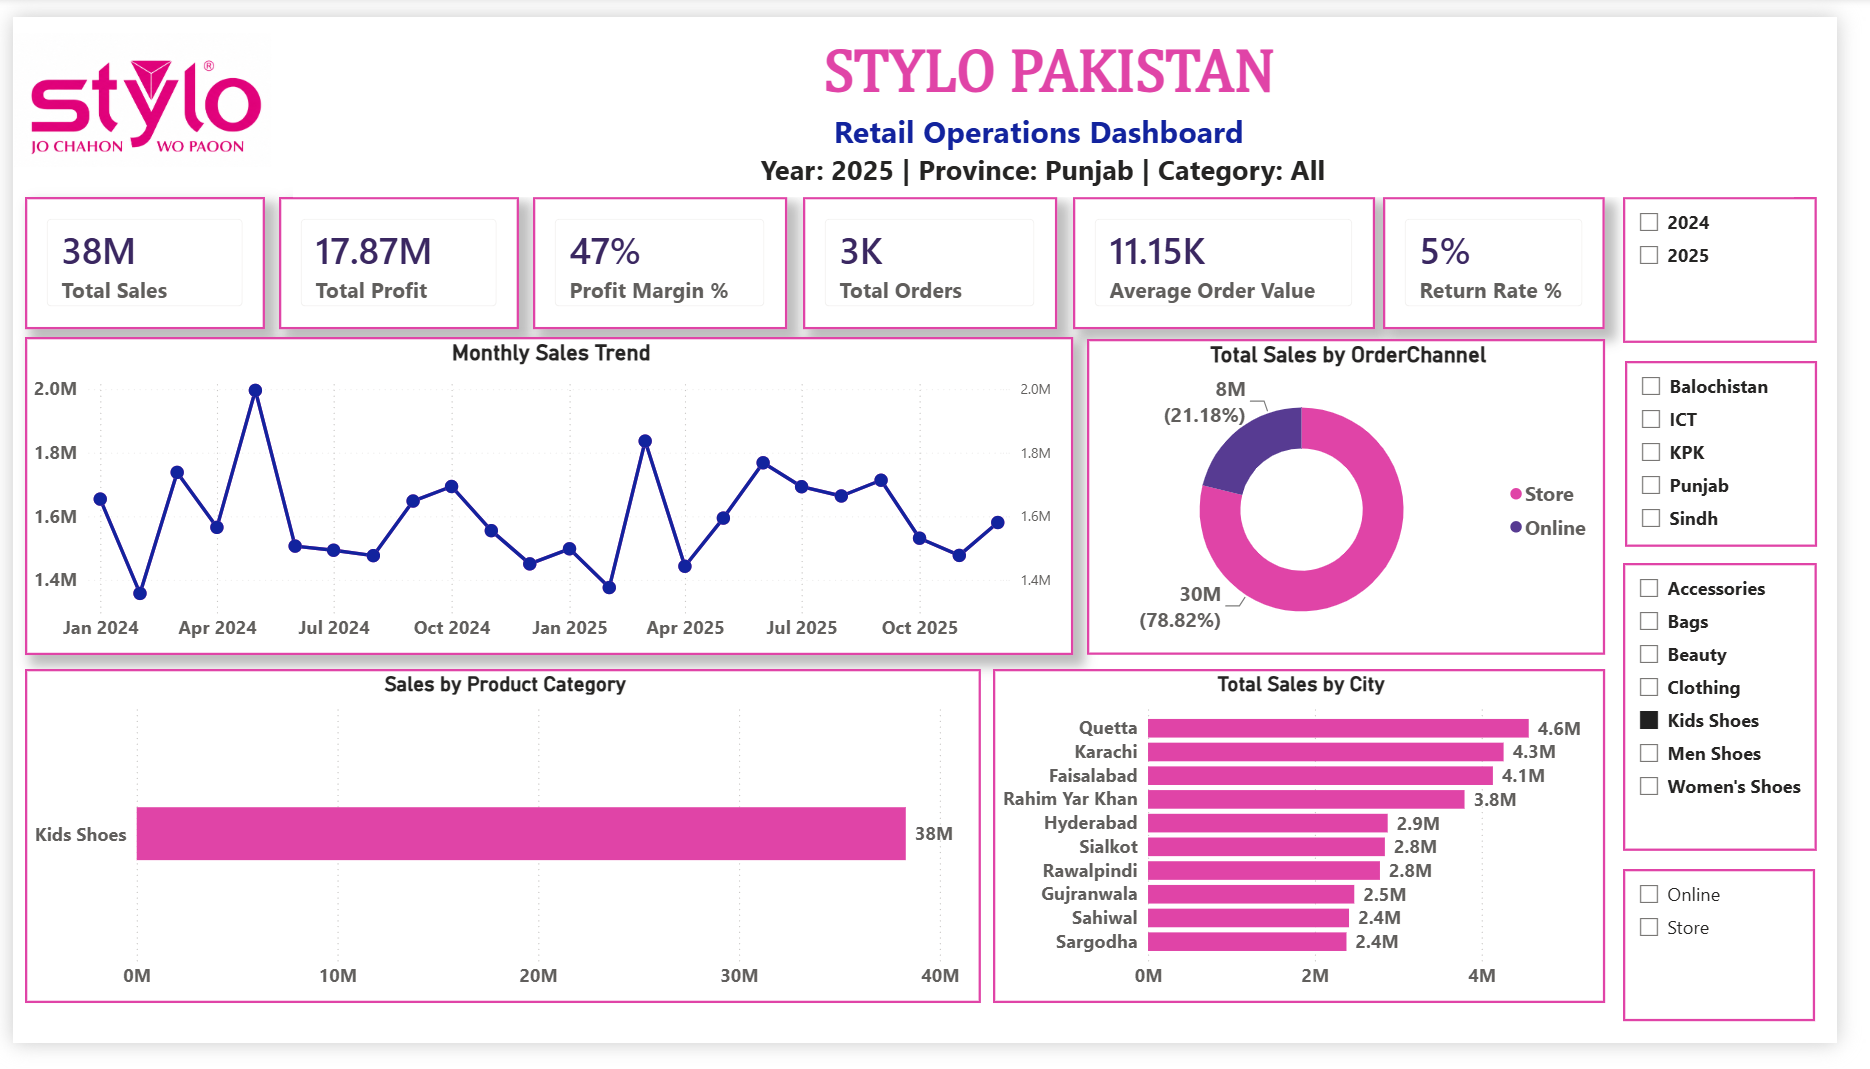

This screenshot's page, from the dashboard's own definition file:
{"tool":"powerbi","page":{"name":"Executive Overview","canvas":[1620,900],"ordinal":0},"visuals":[{"type":"cardVisual","fields":{"Data":["All Measures.Total Sales"]},"box":[28.1,157.9,210.5,115.8],"z":0},{"type":"cardVisual","fields":{"Data":["All Measures.Total Profit"]},"box":[250.9,157.9,210.5,115.8],"z":1000},{"type":"cardVisual","fields":{"Data":["All Measures.Profit Margin %"]},"box":[473.7,157.9,222.8,115.8],"z":2000},{"type":"cardVisual","fields":{"Data":["All Measures.Total Orders"]},"box":[710.5,157.9,222.8,115.8],"z":3000},{"type":"cardVisual","fields":{"Data":["All Measures.Average Order Value"]},"box":[947.4,157.9,264.9,115.8],"z":4000},{"type":"cardVisual","fields":{"Data":["All Measures.Return Rate %"]},"box":[1219.3,157.9,194.7,115.8],"z":5000},{"type":"textbox","box":[15.8,124.6,1638.6,12.3],"z":6000},{"type":"slicer","fields":{"Values":["DimStore.Province"]},"box":[1428.1,301.8,170.2,180.7],"z":7000},{"type":"slicer","fields":{"Values":["DimProduct.Category"]},"box":[1428.1,494.7,170.2,252.6],"z":8000},{"type":"lineChart","title":"Monthly Sales Trend","fields":{"Category":["DimDate.Date.Variation.Date Hierarchy.Year","DimDate.Date.Variation.Date Hierarchy.Month"],"Y":["All Measures.Total Sales"],"Y2":["All Measures.Average Monthly Sales"]},"box":[28.1,280.7,919.3,278.9],"z":9000},{"type":"donutChart","fields":{"Y":["All Measures.Total Sales"],"Category":["FactSales.OrderChannel"]},"box":[959.6,282.5,454.4,277.2],"z":10000},{"type":"clusteredBarChart","title":"Sales by Product Category","fields":{"Category":["DimProduct.Category"],"Y":["All Measures.Total Sales"]},"box":[28.1,571.9,838.6,293],"z":11000},{"type":"slicer","fields":{"Values":["DimDate.Year"]},"box":[1429.8,157.9,168.4,128.1],"z":12000},{"type":"slicer","fields":{"Values":["FactSales.OrderChannel"]},"box":[1429.8,759.6,168.4,105.3],"z":13000},{"type":"barChart","fields":{"Category":["DimStore.City"],"Y":["All Measures.Total Sales"]},"box":[877.2,571.9,536.8,293],"z":14000},{"type":"textbox","box":[100,14,300,110.5],"z":15000},{"type":"textbox","box":[263.5,13.5,571.2,144.2],"z":16000},{"type":"image","box":[0,14,263.2,117.5],"z":17000},{"type":"slicer","fields":{"Values":["DimDate.MonthName"]},"box":[1013.5,13.5,186.5,134.6],"z":18000},{"type":"slicer","fields":{"Values":["DimStore.StoreType"]},"box":[1213.5,13.5,186.5,134.6],"z":19000},{"type":"slicer","fields":{"Values":["DimCustomer.MembershipType"]},"box":[1413.5,13.5,186.5,134.6],"z":20000}]}

Visuals, with their boxes in screenshot pixels (x1, y1, x2, y2), scaled from the page's 1620x900 canvas onto the 1870x1069 screenshot:
cardVisual - All Measures.Total Sales: {"left": 32, "top": 188, "right": 275, "bottom": 325}
cardVisual - All Measures.Total Profit: {"left": 290, "top": 188, "right": 533, "bottom": 325}
cardVisual - All Measures.Profit Margin %: {"left": 547, "top": 188, "right": 804, "bottom": 325}
cardVisual - All Measures.Total Orders: {"left": 820, "top": 188, "right": 1077, "bottom": 325}
cardVisual - All Measures.Average Order Value: {"left": 1094, "top": 188, "right": 1399, "bottom": 325}
cardVisual - All Measures.Return Rate %: {"left": 1407, "top": 188, "right": 1632, "bottom": 325}
textbox: {"left": 18, "top": 148, "right": 1869, "bottom": 163}
slicer - DimStore.Province: {"left": 1648, "top": 358, "right": 1845, "bottom": 573}
slicer - DimProduct.Category: {"left": 1648, "top": 588, "right": 1845, "bottom": 888}
"Monthly Sales Trend" lineChart: {"left": 32, "top": 333, "right": 1094, "bottom": 665}
donutChart - All Measures.Total Sales x FactSales.OrderChannel: {"left": 1108, "top": 336, "right": 1632, "bottom": 665}
"Sales by Product Category" clusteredBarChart: {"left": 32, "top": 679, "right": 1000, "bottom": 1027}
slicer - DimDate.Year: {"left": 1650, "top": 188, "right": 1845, "bottom": 340}
slicer - FactSales.OrderChannel: {"left": 1650, "top": 902, "right": 1845, "bottom": 1027}
barChart - DimStore.City x All Measures.Total Sales: {"left": 1013, "top": 679, "right": 1632, "bottom": 1027}
textbox: {"left": 115, "top": 17, "right": 462, "bottom": 148}
textbox: {"left": 304, "top": 16, "right": 964, "bottom": 187}
image: {"left": 0, "top": 17, "right": 304, "bottom": 156}
slicer - DimDate.MonthName: {"left": 1170, "top": 16, "right": 1385, "bottom": 176}
slicer - DimStore.StoreType: {"left": 1401, "top": 16, "right": 1616, "bottom": 176}
slicer - DimCustomer.MembershipType: {"left": 1632, "top": 16, "right": 1847, "bottom": 176}
